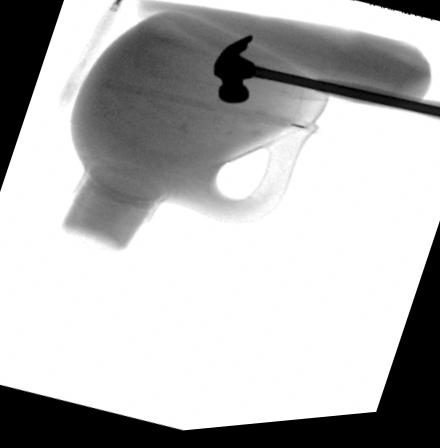Hammer: (209, 37, 440, 130)
